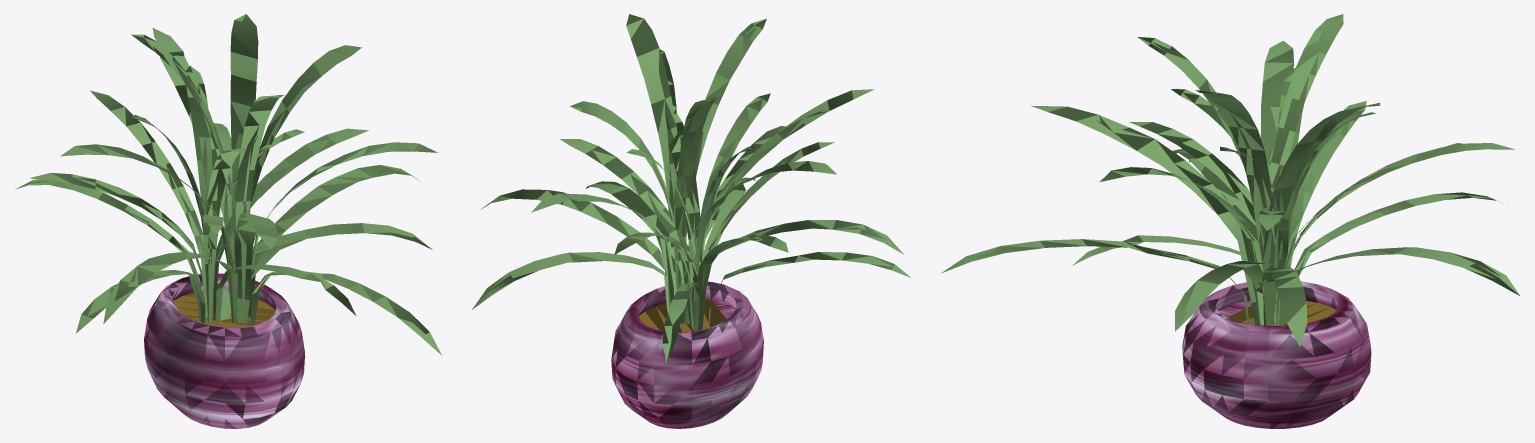
Rendered from plant.glb.
3 renders of one model, left to right at view 1: azimuth 30°, elevation 25°; view 2: azimuth 150°, elevation 25°; view 3: azimuth 270°, elevation 25°, orthographic. The views are drawn at different scales.
Visible parts, largest first — view 1: potplant2; view 2: potplant2; view 3: potplant2.
Boxes of the visible parts, left/top/right/bottom form: potplant2: left=15, top=14, right=441, bottom=428; potplant2: left=471, top=14, right=910, bottom=428; potplant2: left=940, top=14, right=1520, bottom=428.
Bounding box in the file's own units: 5.89 × 5.08 × 7.3.
Materials: 3 (1 with a texture image).
